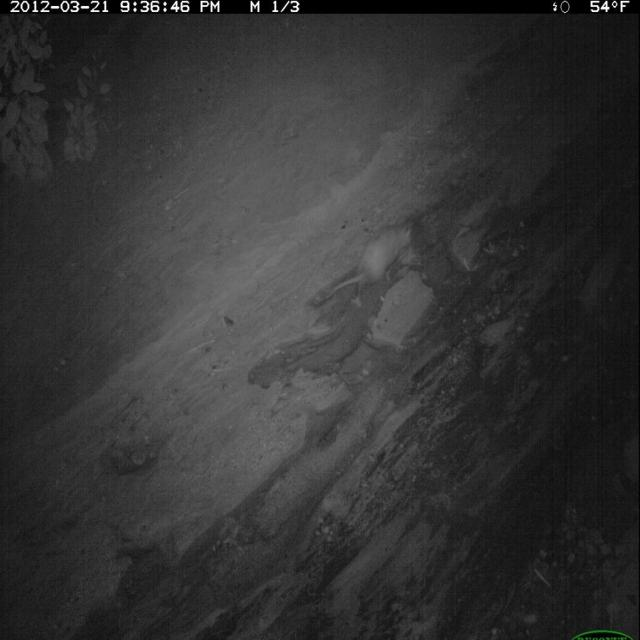opossum: (322, 217, 421, 307)
